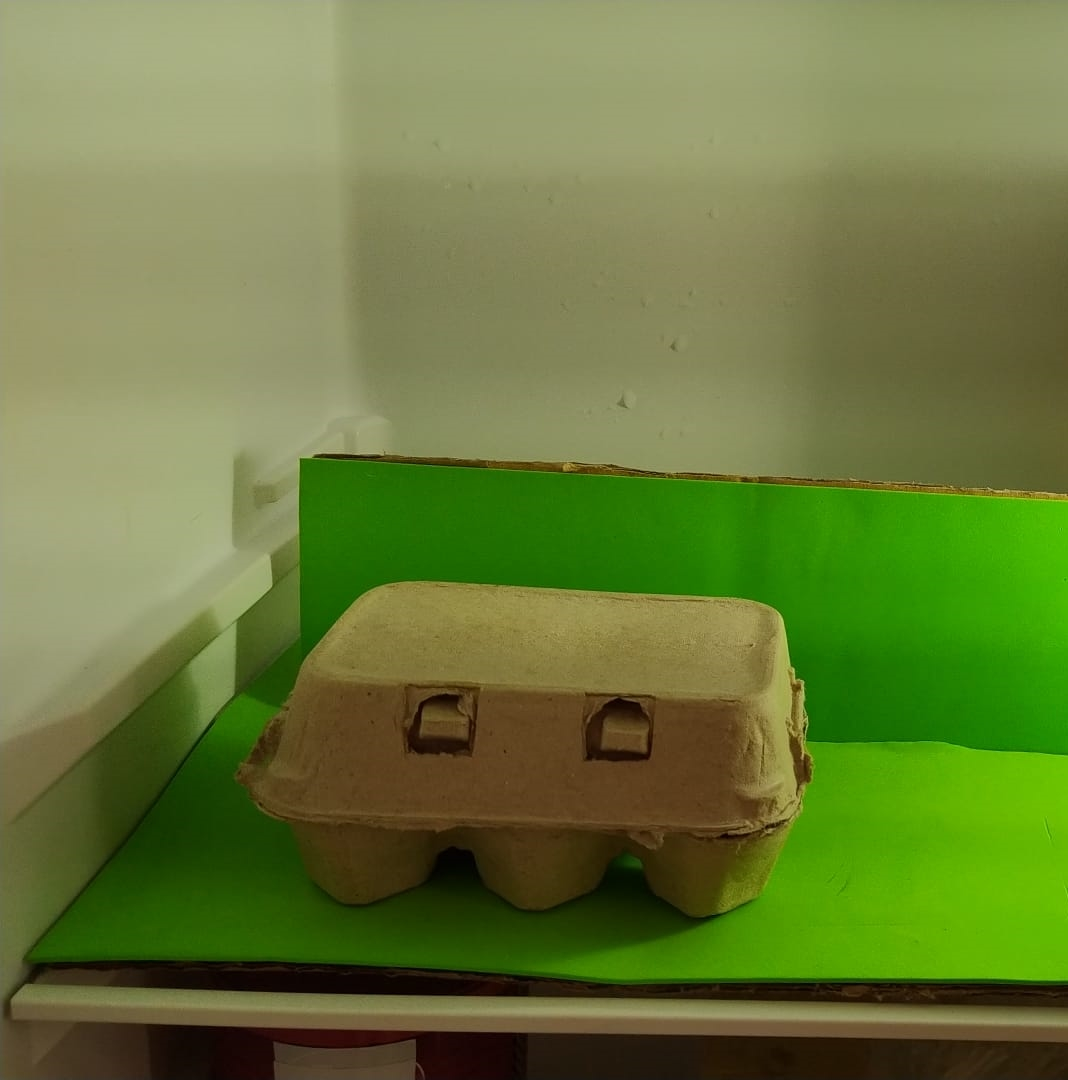egg: (243, 579, 810, 919)
